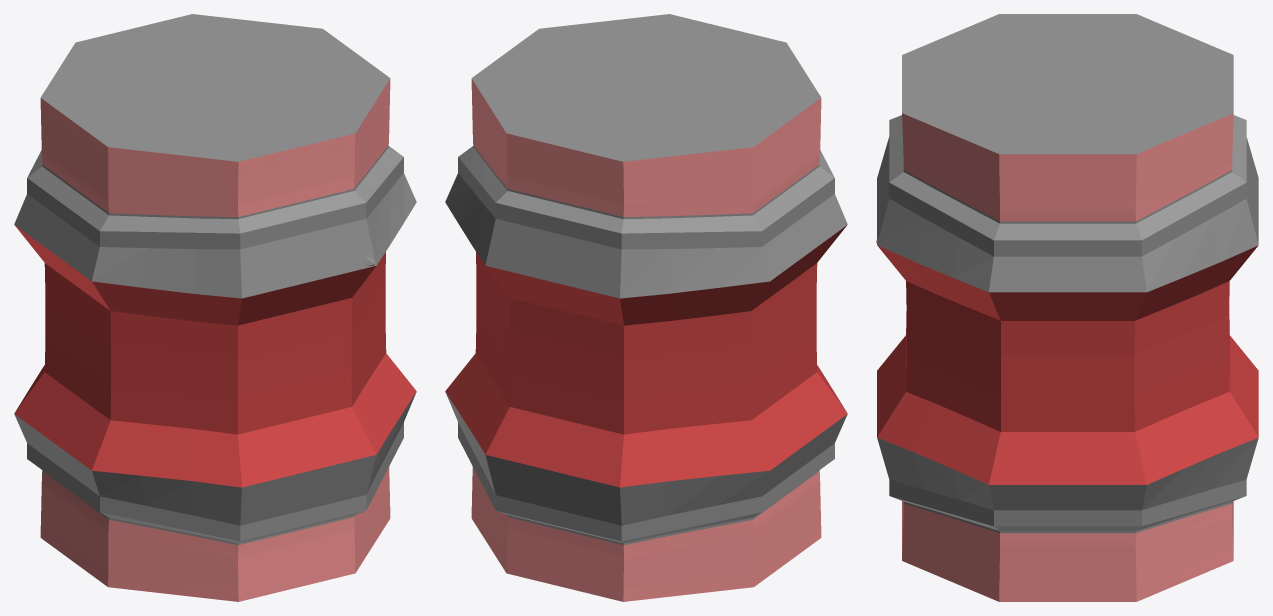
The model's file is Dome.FBX.
3 views of the same model, side by side, from view 1: azimuth 30°, elevation 25°; view 2: azimuth 150°, elevation 25°; view 3: azimuth 270°, elevation 25° (orthographic).
Parts seen in each view (by area): view 1: Arena; view 2: Arena; view 3: Arena.
Part boxes in pixels (box(x1,y1,x2,y2)): Arena: box(14, 14, 416, 601); Arena: box(445, 14, 847, 601); Arena: box(876, 14, 1258, 601).
Size of the model in its own units: 32138 by 41593 by 32209.
